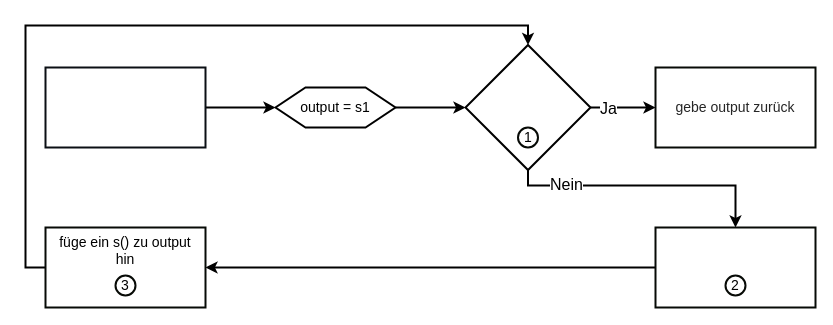
Image size: 833x325. Some labels were removed from this diagram. Each missing label, with the box of its shape:
add(s1, s2, output): (44, 66, 206, 148)
entferne ein s() vom s2: (654, 226, 816, 308)
s2 == 0: (464, 44, 591, 170)
